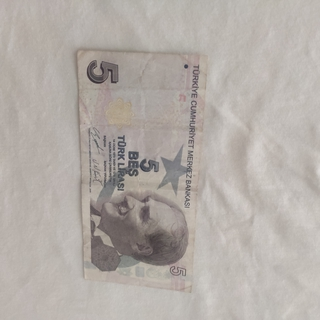5TLFront: (74, 48, 202, 293)
